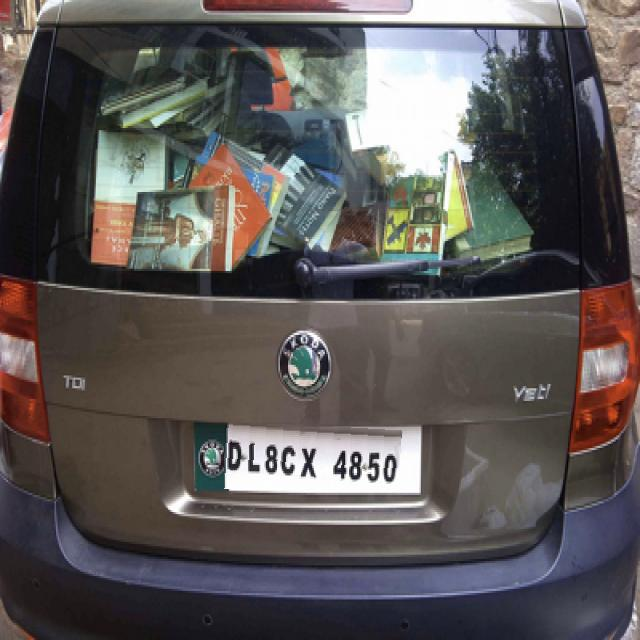licence: (224, 420, 402, 489)
